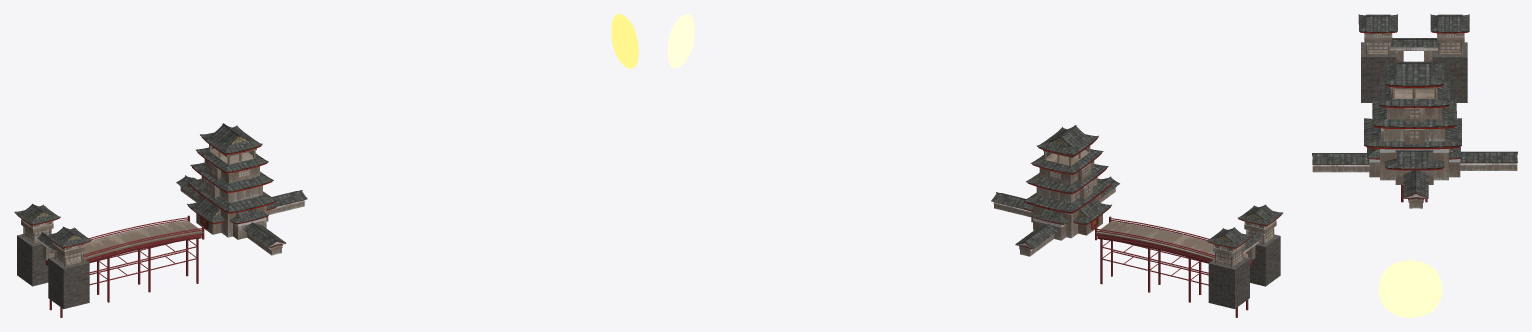
The model's file is chinese_fantasy06.glb.
The picture shows the model from 3 angles, left to right: view 1: azimuth 30°, elevation 25°; view 2: azimuth 150°, elevation 25°; view 3: azimuth 270°, elevation 25°; orthographic projection. The views are drawn at different scales.
Parts seen in each view (by area): view 1: Object_13, Object_5, Object_17, Object_4, Object_34, Object_24, Object_9; view 2: Object_13, Object_5, Object_17, Object_4, Object_34, Object_24, Object_9; view 3: Object_13, Object_5, Object_34, Object_17, Object_24, Object_9, Object_62, Object_22.
Part boxes in pixels (x1,y1,x2,y2): Object_13: (15,123,307,250); Object_5: (21,141,305,266); Object_17: (17,234,89,309); Object_4: (45,215,204,317); Object_34: (611,14,638,68); Object_24: (14,135,277,248); Object_9: (22,164,214,262); Object_13: (991,125,1282,251); Object_5: (993,143,1276,267); Object_17: (1208,234,1280,308); Object_4: (1095,216,1252,317); Object_34: (667,14,694,68); Object_24: (1022,136,1282,248); Object_9: (1084,166,1275,262); Object_13: (1312,14,1517,197); Object_5: (1312,33,1517,208); Object_34: (1378,260,1442,317); Object_17: (1361,42,1467,102); Object_24: (1358,15,1469,170); Object_9: (1366,33,1463,139); Object_62: (1369,107,1460,162); Object_22: (1312,15,1517,199).
Size of the model in its own units: 204 by 53.45 by 54.1.
Materials: 12 (11 with a texture image).
